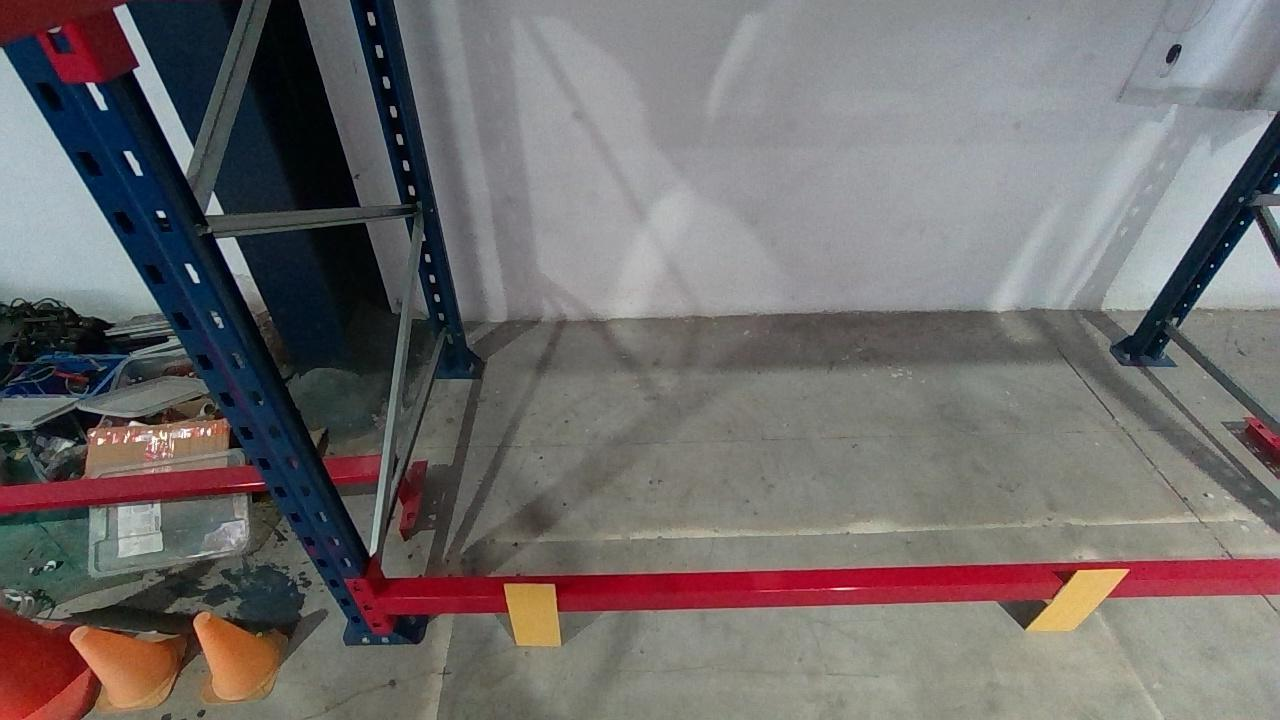h_rack: (375, 566, 1277, 614)
orange_strip: (1027, 569, 1132, 631), (502, 584, 559, 646)
